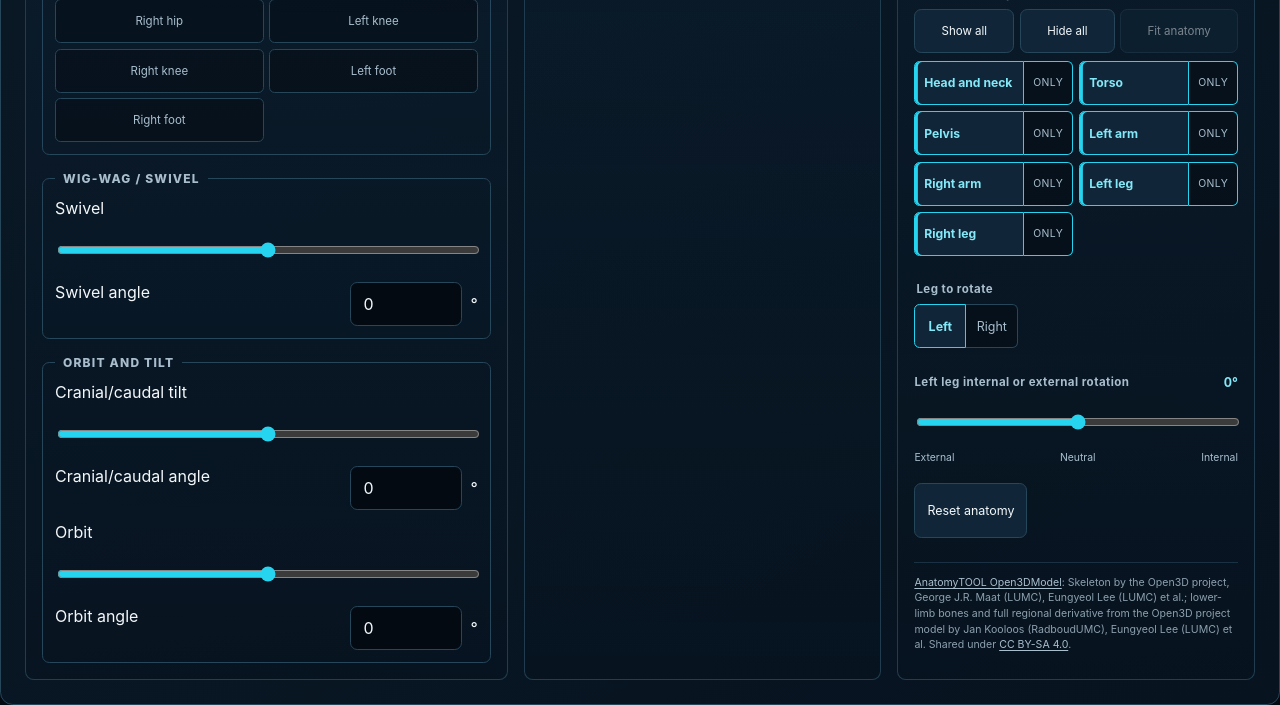
Test case: CArmControls › synchronizes the Orbit slider and exact numeric input
(page scrolled)
Set the slider labelled "Orbit" to "12" at (282, 574), box [57,552,480,596]
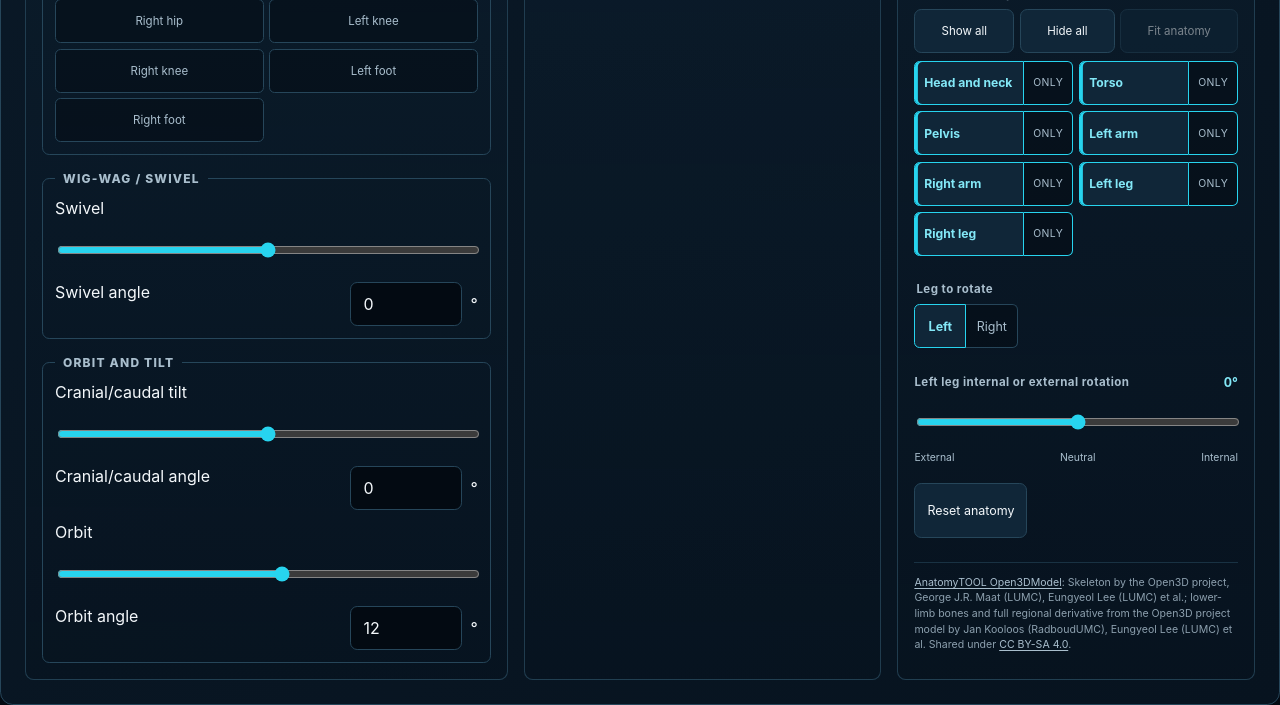
Expected: the number field labelled "Orbit angle" holds "12", [350,606,462,650]
